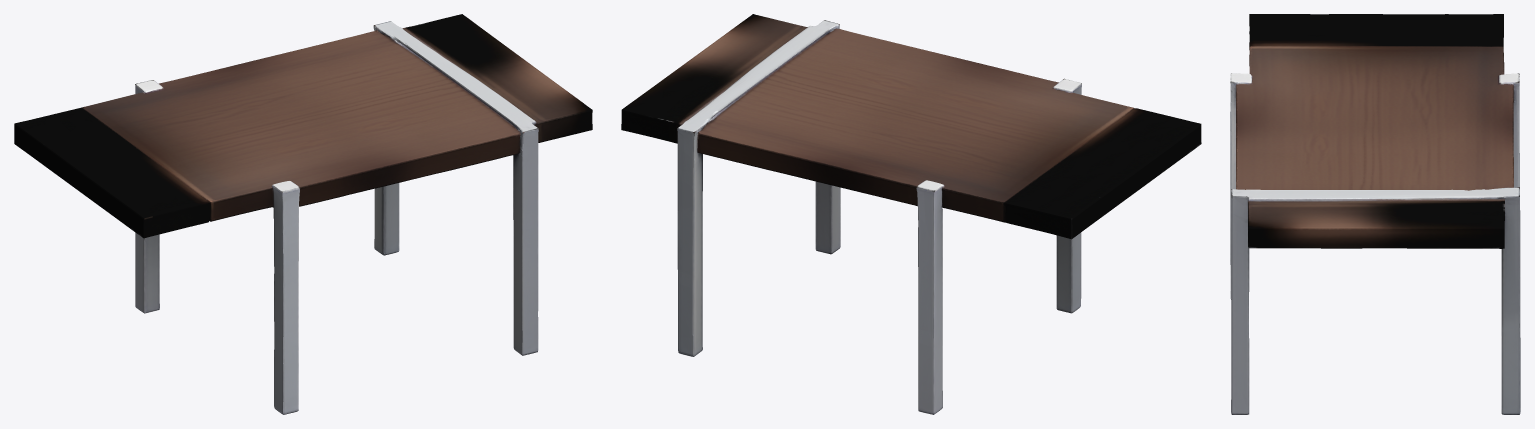
Rendered from TRELLIS.glb.
3 renders of one model, left to right at view 1: azimuth 30°, elevation 25°; view 2: azimuth 150°, elevation 25°; view 3: azimuth 270°, elevation 25°, orthographic. The views are drawn at different scales.
Parts seen in each view (by area): view 1: world; view 2: world; view 3: world.
Boxes of the visible parts, bbox=[...] form: world: bbox=[14, 14, 592, 414]; world: bbox=[621, 14, 1201, 414]; world: bbox=[1230, 14, 1520, 414].
Bounding box in the file's own units: 0.7514 × 0.3591 × 0.4288.
Materials: 1 (1 with a texture image).
